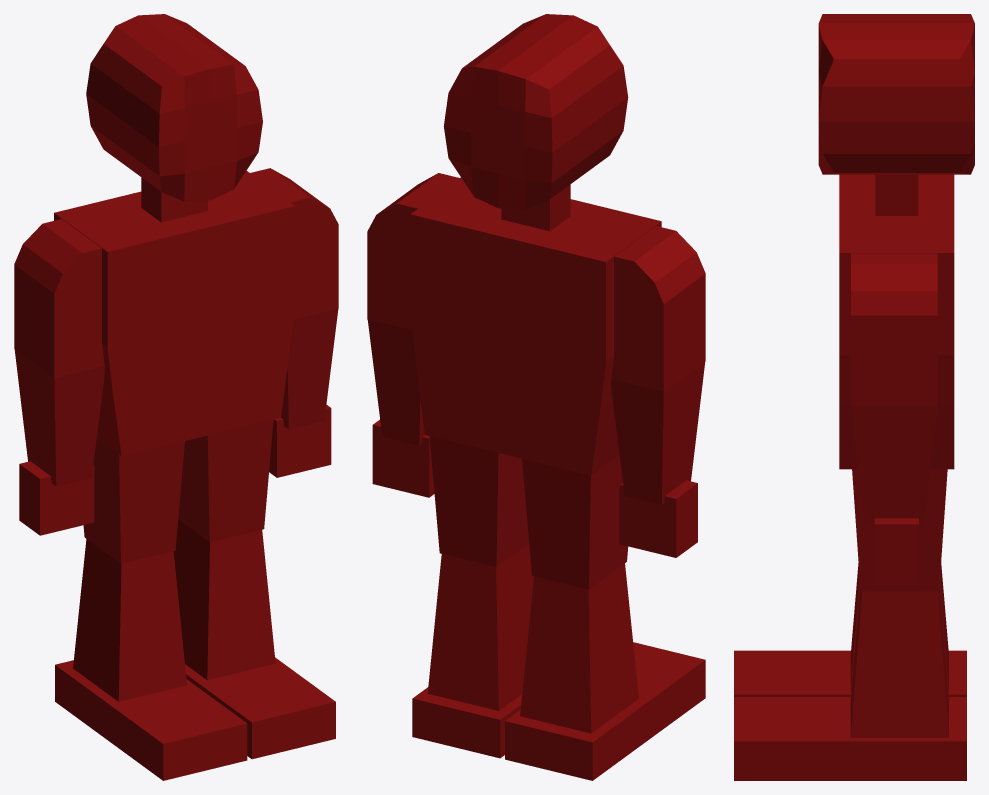
The model's file is clovek.gltf.
3 renders of one model, left to right at view 1: azimuth 30°, elevation 25°; view 2: azimuth 150°, elevation 25°; view 3: azimuth 270°, elevation 25°, orthographic. The views are drawn at different scales.
Parts seen in each view (by area): view 1: Cube; view 2: Cube; view 3: Cube.
Boxes of the visible parts, x1,y1,x2,y2 form: Cube: [14, 14, 338, 780]; Cube: [367, 14, 705, 780]; Cube: [734, 14, 974, 780].
Size of the model in its own units: 4.78 by 10.4 by 3.19.
Materials: 1 (1 with a texture image).
